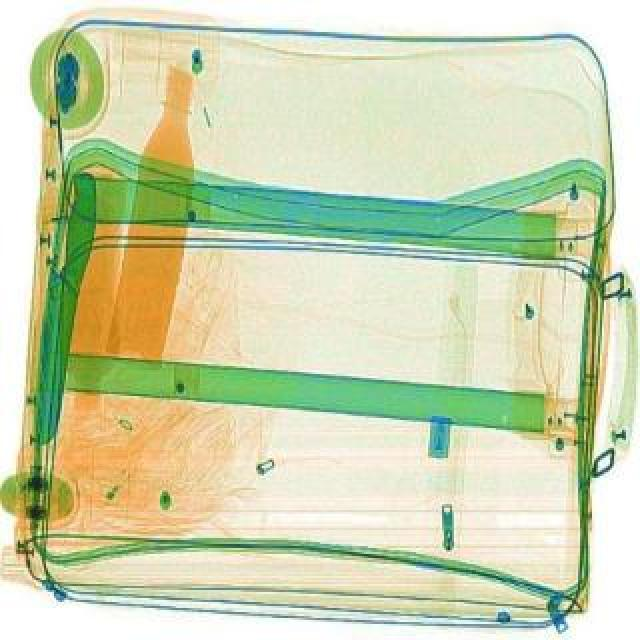knife: (20, 168, 102, 442)
